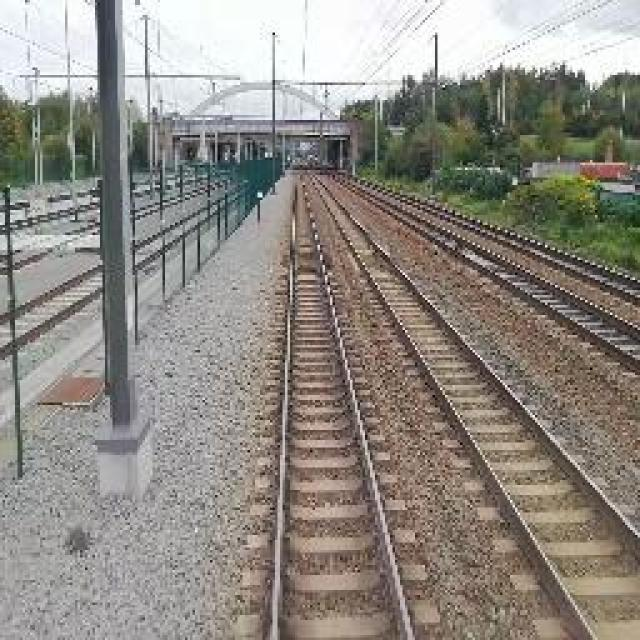rail: (244, 169, 459, 640)
